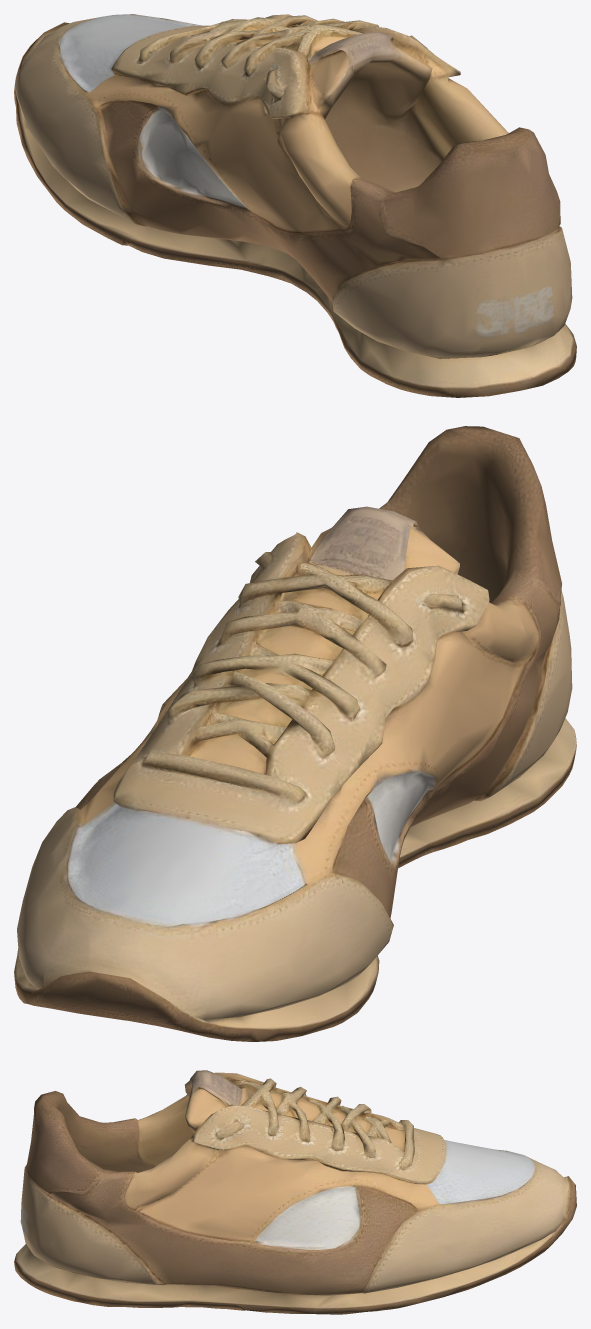
The model's file is gully-number-002-gati-beige.glb.
3 views of the same model, one above another, from view 1: azimuth 30°, elevation 25°; view 2: azimuth 150°, elevation 25°; view 3: azimuth 270°, elevation 25° (orthographic). The views are drawn at different scales.
Parts seen in each view (by area): view 1: tripo_node_bb92b5bd-90ee-48c1-af7a-336800f4edf7; view 2: tripo_node_bb92b5bd-90ee-48c1-af7a-336800f4edf7; view 3: tripo_node_bb92b5bd-90ee-48c1-af7a-336800f4edf7.
Boxes of the visible parts, bbox=[...] form: tripo_node_bb92b5bd-90ee-48c1-af7a-336800f4edf7: bbox=[14, 14, 576, 397]; tripo_node_bb92b5bd-90ee-48c1-af7a-336800f4edf7: bbox=[14, 426, 576, 1041]; tripo_node_bb92b5bd-90ee-48c1-af7a-336800f4edf7: bbox=[14, 1070, 576, 1314].
Bounding box in the file's own units: 0.41 × 0.3763 × 1.
1 material, 1 textured.
